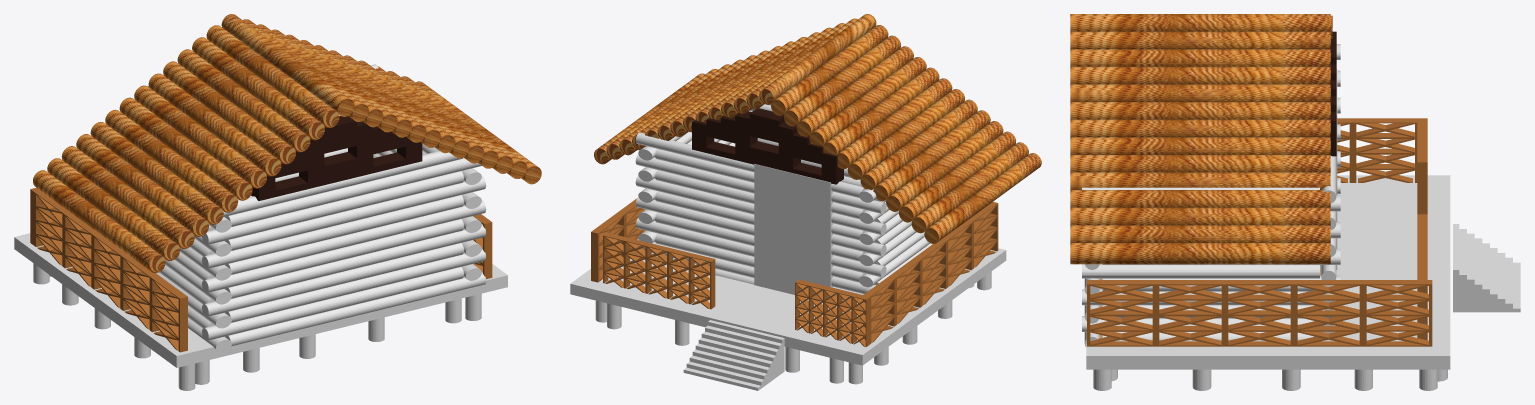
File: home.fbx
The picture shows the model from 3 angles, left to right: view 1: azimuth 30°, elevation 25°; view 2: azimuth 150°, elevation 25°; view 3: azimuth 270°, elevation 25°; orthographic projection. The views are drawn at different scales.
Visible parts, largest first — view 1: 円柱.017, 円柱; view 2: 円柱.017, 平面.001, 立方体.001, 円柱; view 3: 円柱.017, 立方体.001, 円柱.
Part boxes in pixels (x1,y1,x2,y2): 円柱.017: [14, 14, 541, 390]; 円柱: [156, 217, 231, 352]; 円柱.017: [570, 14, 1041, 384]; 平面.001: [754, 164, 833, 298]; 立方体.001: [683, 320, 784, 390]; 円柱: [859, 189, 932, 287]; 円柱.017: [1070, 14, 1450, 390]; 立方体.001: [1453, 224, 1520, 312]; 円柱: [1336, 44, 1340, 193].
Size of the model in its own units: 593 by 381 by 527.
